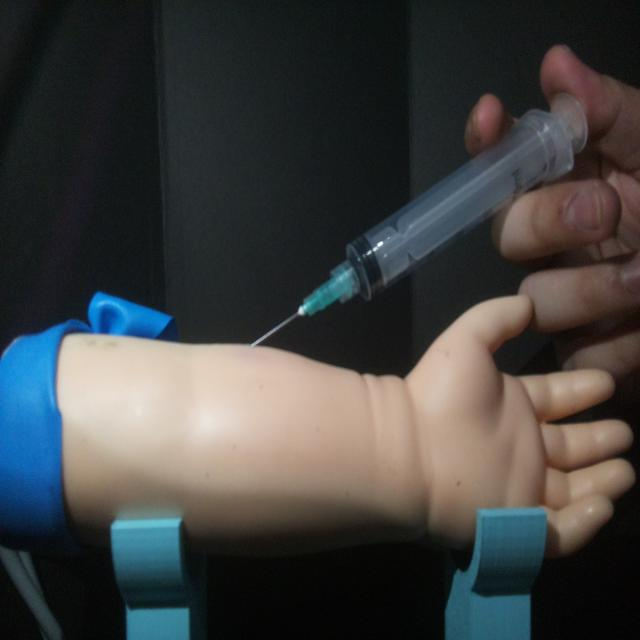27deg: (245, 87, 591, 351)
